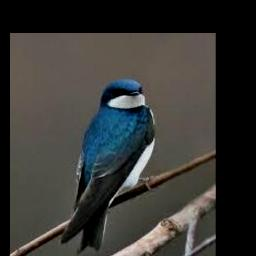Swallow: (59, 79, 156, 254)
